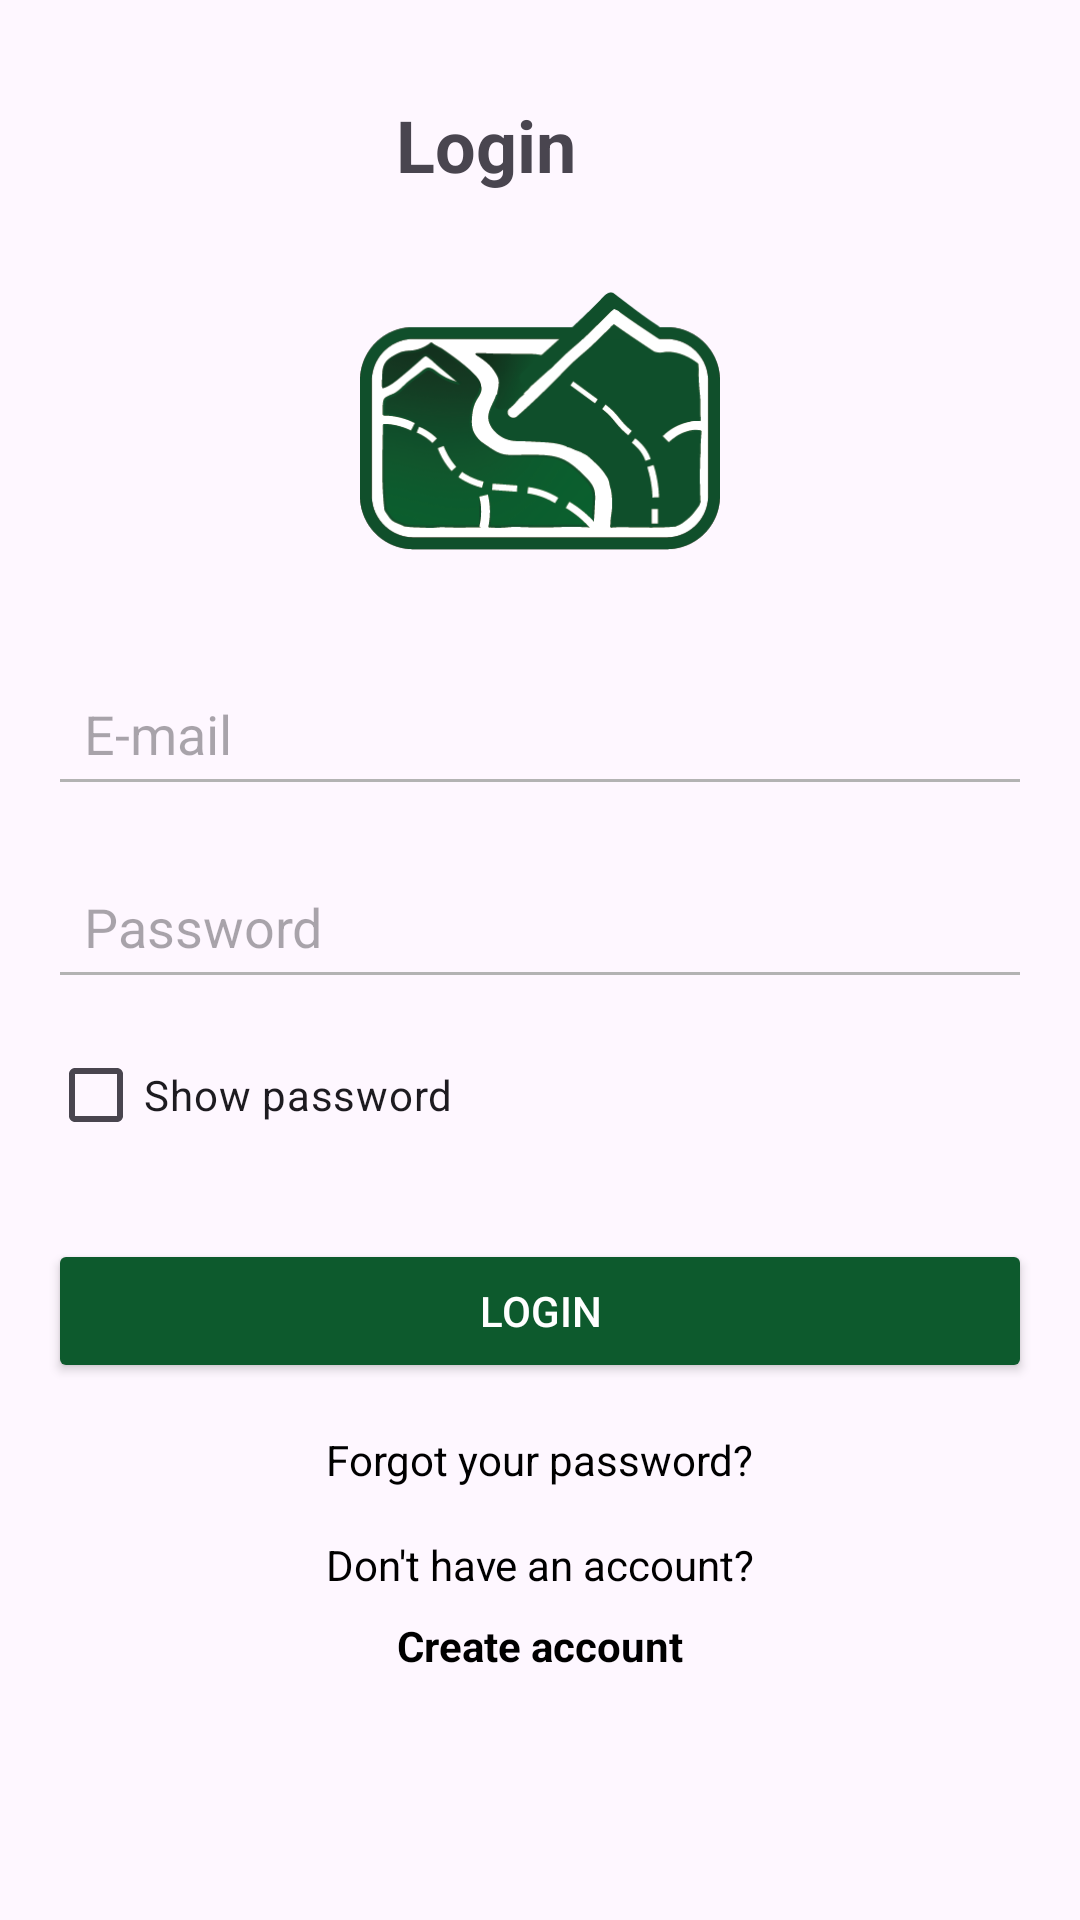

Icon click points for this 1080px x 1920px phone screenshot, format (x=x, y=y):
app: (x=540, y=421)
